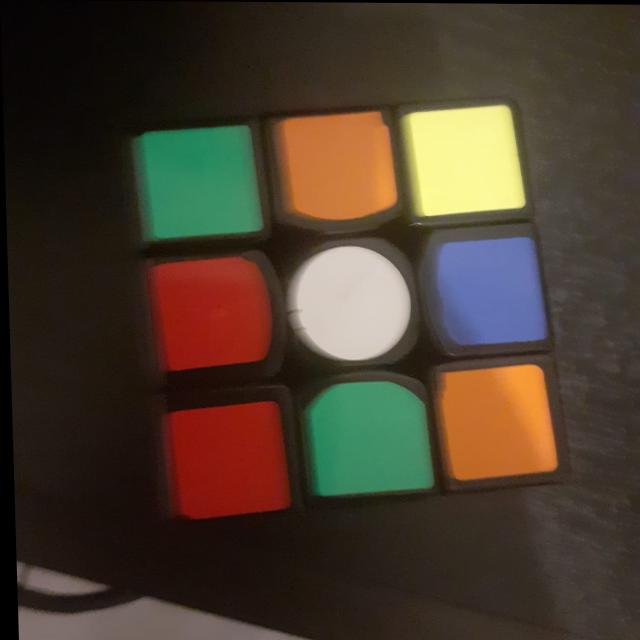Blue: (423, 227, 552, 352)
Green: (302, 382, 431, 498), (132, 130, 265, 239)
Orange: (435, 363, 555, 482), (274, 117, 400, 221)
Red: (146, 396, 293, 520), (136, 256, 279, 374)
White: (291, 249, 411, 361)
Yellow: (403, 112, 522, 210)
